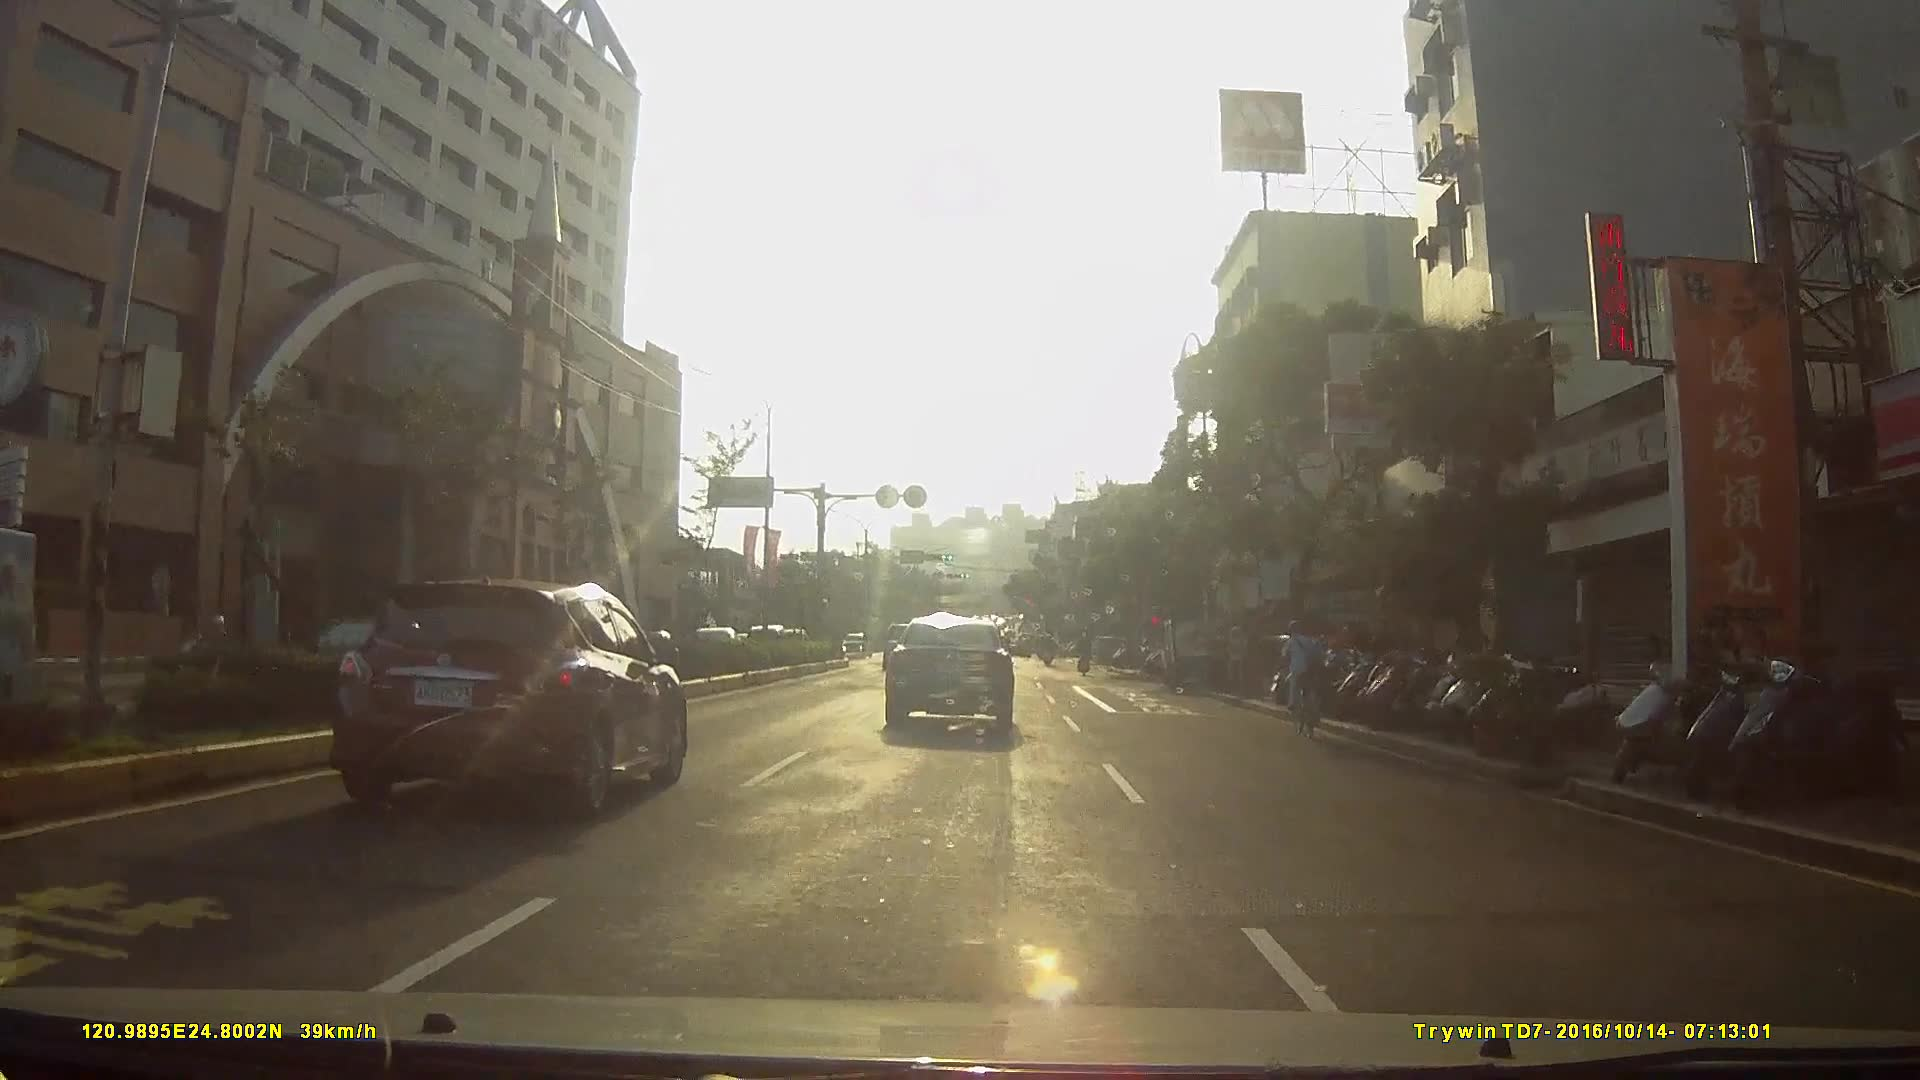rider: (1278, 618, 1329, 741)
vehicle: (326, 571, 700, 819), (879, 612, 1029, 742), (1157, 610, 1234, 688), (763, 607, 822, 662)
